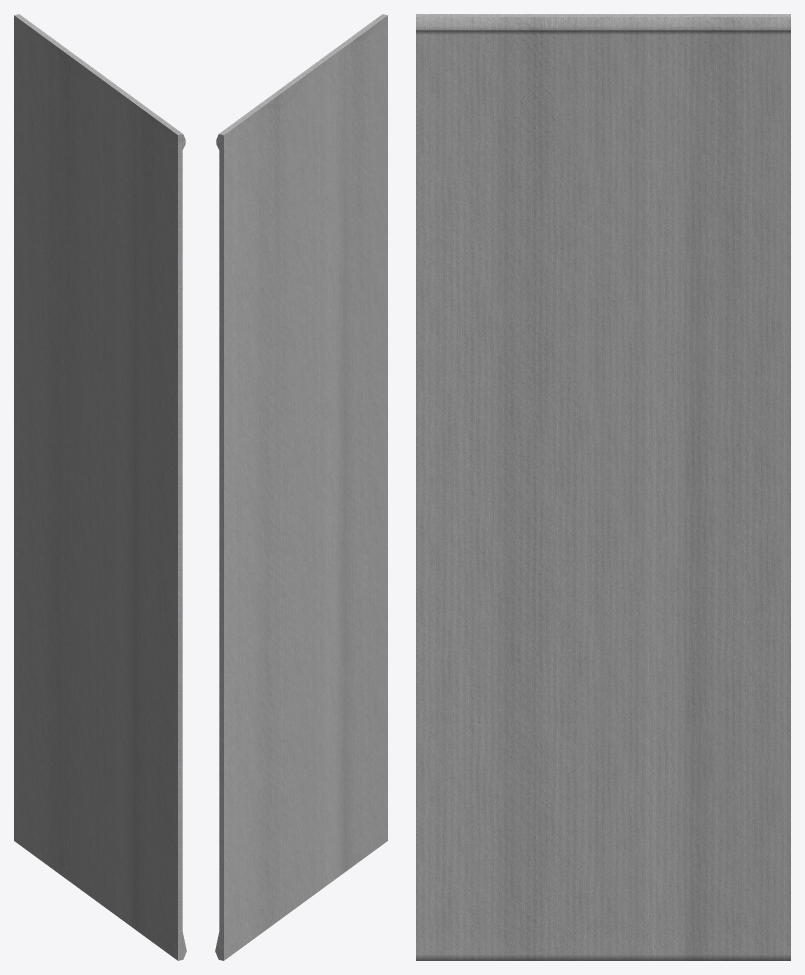
File: GYM_Cover_MD.fbx
The picture shows the model from 3 angles, left to right: view 1: azimuth 30°, elevation 25°; view 2: azimuth 150°, elevation 25°; view 3: azimuth 270°, elevation 25°; orthographic projection. The views are drawn at different scales.
Visible parts, largest first — view 1: GYM_Blinds_SM; view 2: GYM_Blinds_SM; view 3: GYM_Blinds_SM.
Part boxes in pixels (x1,y1,x2,y2): GYM_Blinds_SM: (14,14,186,960); GYM_Blinds_SM: (215,14,387,960); GYM_Blinds_SM: (416,14,790,960).
Bounding box in the file's own units: 0.0549 × 4.93 × 1.77.
1 material, 1 textured.
